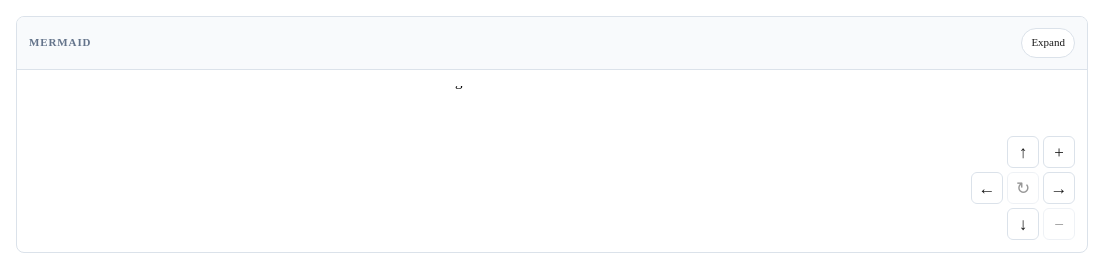
it: Mermaid rich blocks › uses explicit inline controls without capturing wheel gestures
Check: the icon "Flow diagram" is shown, box [402,86,702,236]
Check: the button named "Zoom out" is disabled, box [1043,208,1075,240]
Click the button named "Zoom in".
click(1059, 152)  # box [1043,136,1075,168]
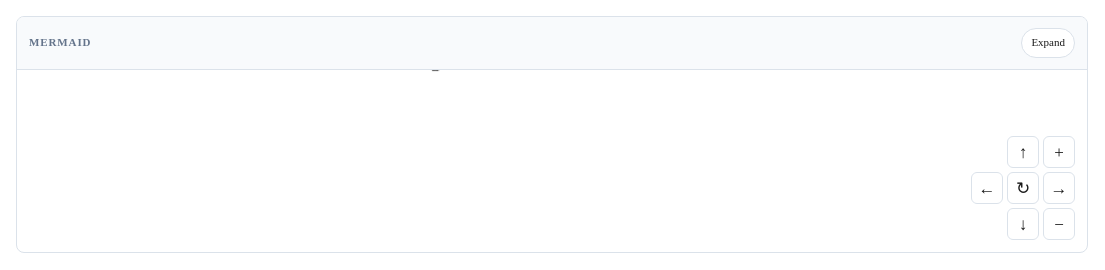
Check: the button named "Zoom out" is enabled, box [1043,208,1075,240]
Click the button named "Pan right".
click(1059, 188)  # box [1043,172,1075,204]
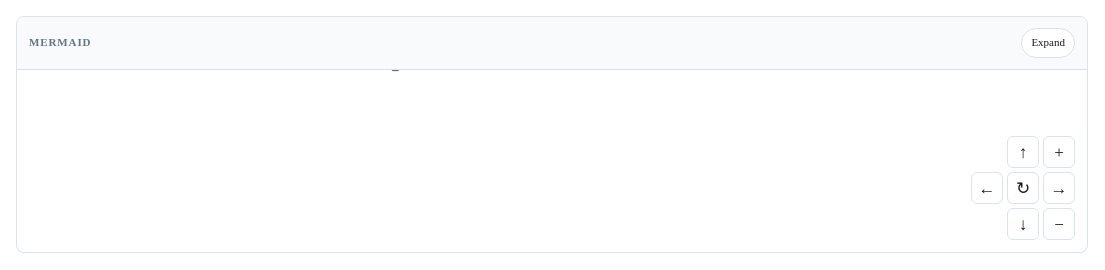
Click the button named "Reset diagram view".
click(1023, 188)  # box [1007,172,1039,204]
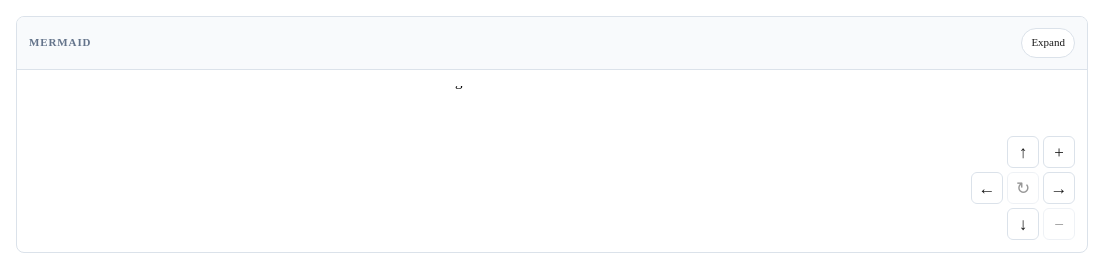
Check: the button named "Reset diagram view" is disabled, box [1007,172,1039,204]
